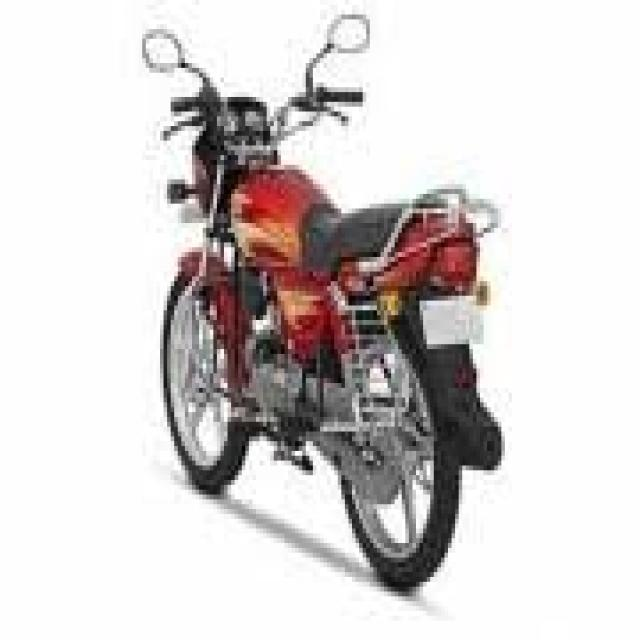Bike: (141, 13, 504, 593)
